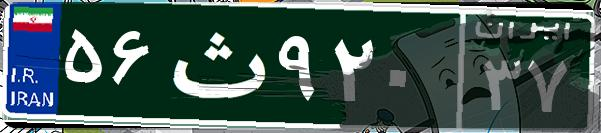0: (385, 28, 445, 110)
2: (330, 28, 385, 110)
3: (475, 38, 525, 113)
5: (57, 26, 110, 107)
6: (110, 28, 158, 105)
7: (525, 38, 570, 115)
9: (273, 28, 330, 110)
ث: (158, 15, 273, 115)
